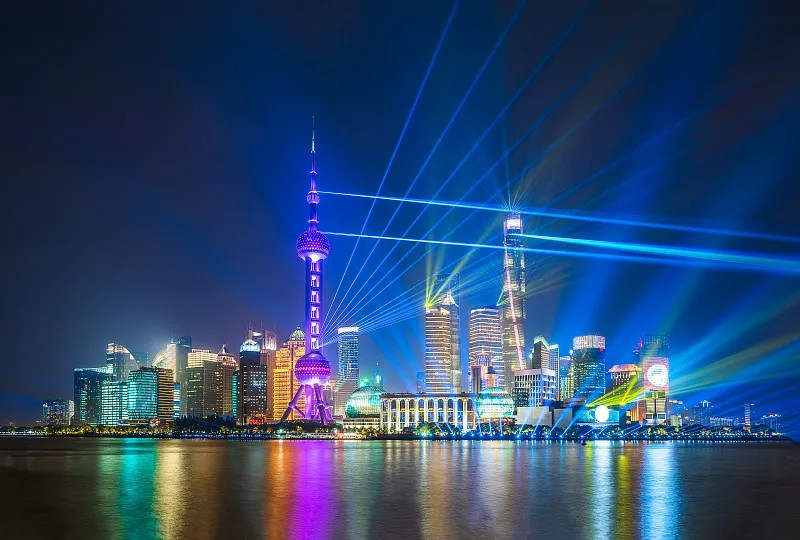Oriental: (280, 116, 334, 422)
